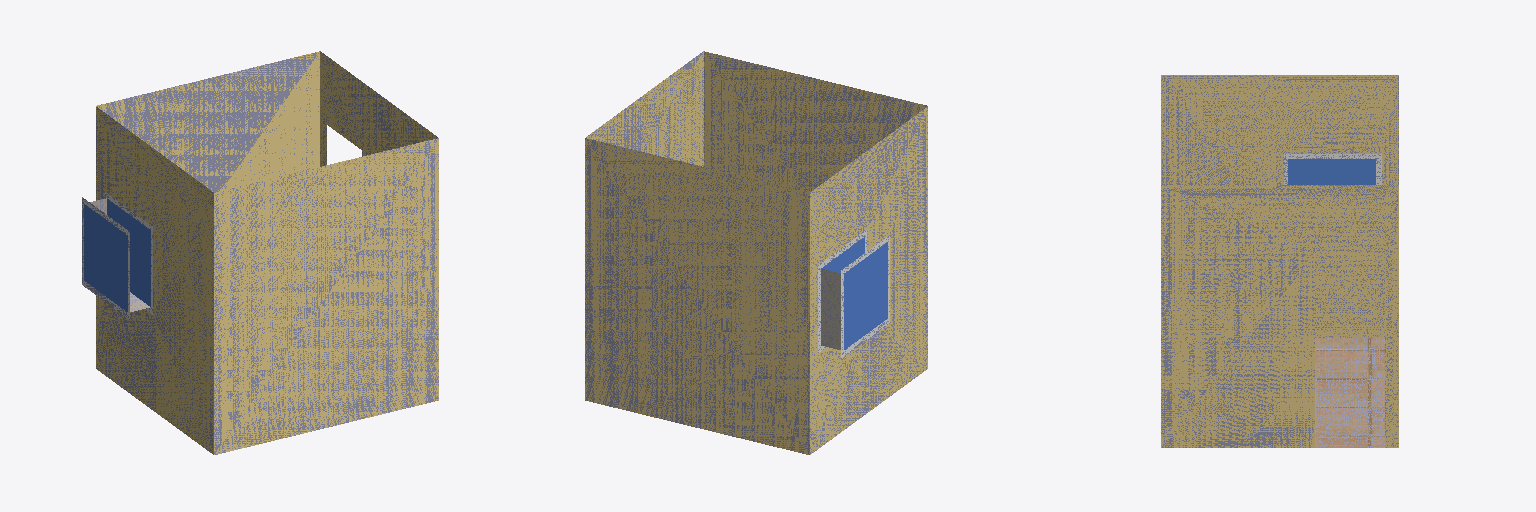
The picture shows the model from 3 angles: view 1: azimuth 30°, elevation 25°; view 2: azimuth 150°, elevation 25°; view 3: azimuth 270°, elevation 25°; orthographic projection.
Visible parts, largest first — view 1: Mesh5 DES039 Model, Mesh1 Group1 DES039 Model; view 2: Mesh5 DES039 Model, Mesh1 Group1 DES039 Model; view 3: Mesh5 DES039 Model, Mesh1 Group1 DES039 Model.
Part boxes in pixels (x1,y1,x2,y2): Mesh5 DES039 Model: (96,51,438,454); Mesh1 Group1 DES039 Model: (82,191,152,319); Mesh5 DES039 Model: (585,51,927,454); Mesh1 Group1 DES039 Model: (818,230,889,358); Mesh5 DES039 Model: (1161,75,1398,447); Mesh1 Group1 DES039 Model: (1284,154,1381,184).
Size of the model in its own units: 2.96 by 3 by 2.46.
Materials: 6 (1 with a texture image).